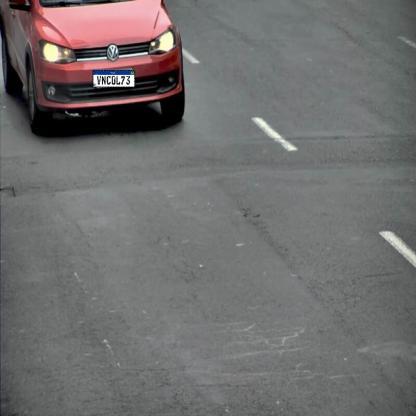PlacaM: (93, 70, 135, 87)
